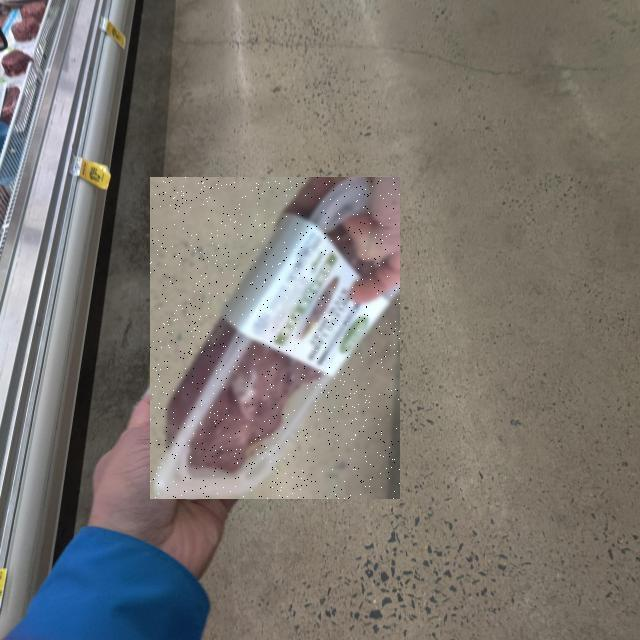Meat: (150, 177, 400, 499)
